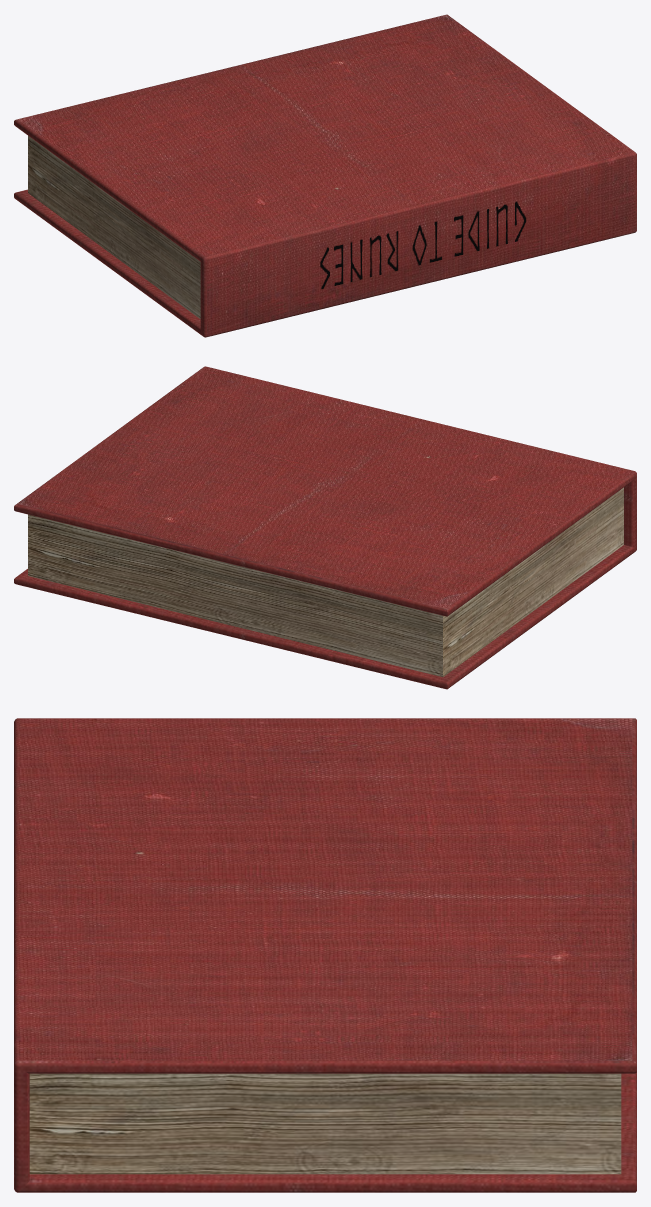
Rendered from Bookv2.fbx.
3 views of the same model, one above another, from view 1: azimuth 30°, elevation 25°; view 2: azimuth 150°, elevation 25°; view 3: azimuth 270°, elevation 25° (orthographic). The views are drawn at different scales.
Parts seen in each view (by area): view 1: Cube; view 2: Cube; view 3: Cube.
Boxes of the visible parts, x1,y1,x2,y2 form: Cube: (14,14,636,337); Cube: (14,366,636,689); Cube: (14,718,636,1192).
Bounding box in the file's own units: 507 × 89.95 × 386.
